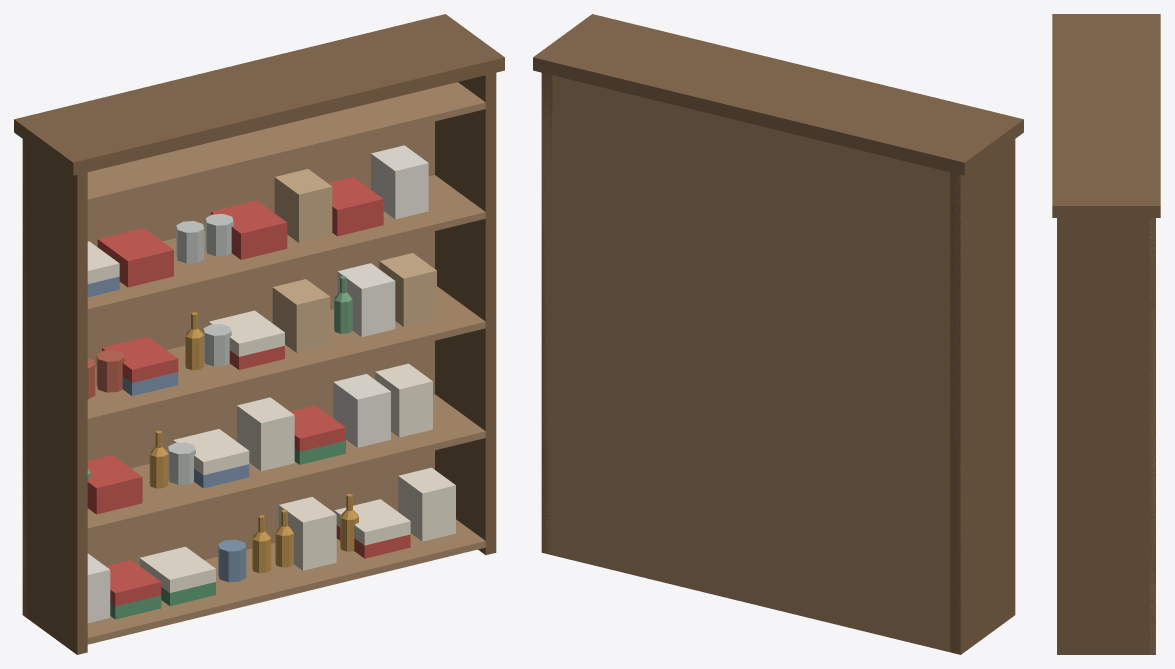
File: SM_Store_Shelf.glb
The picture shows the model from 3 angles, left to right: view 1: azimuth 30°, elevation 25°; view 2: azimuth 150°, elevation 25°; view 3: azimuth 270°, elevation 25°; orthographic projection. The views are drawn at different scales.
Parts seen in each view (by area): view 1: SM_Store_Shelf; view 2: SM_Store_Shelf; view 3: SM_Store_Shelf.
Part boxes in pixels (<box>): SM_Store_Shelf: <box>14,14,504,654</box>; SM_Store_Shelf: <box>533,14,1023,654</box>; SM_Store_Shelf: <box>1052,14,1160,654</box>.
Bounding box in the file's own units: 2.06 × 2.26 × 0.49.
